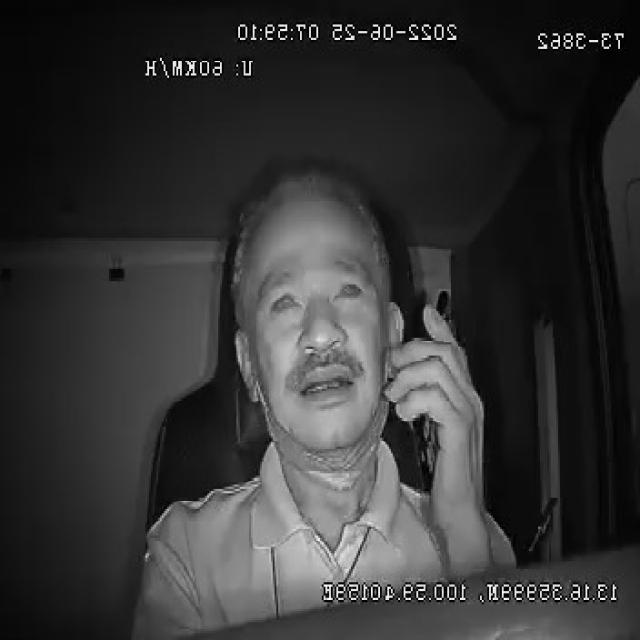phone: (408, 283, 456, 496)
